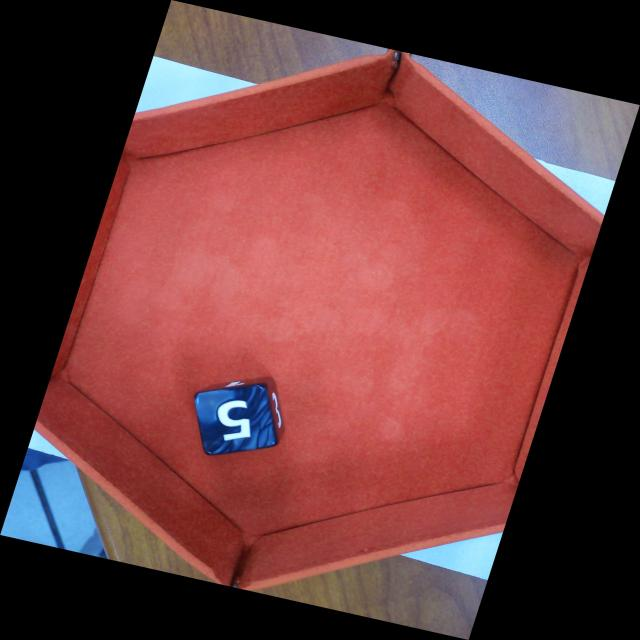dice: (194, 382, 281, 452)
